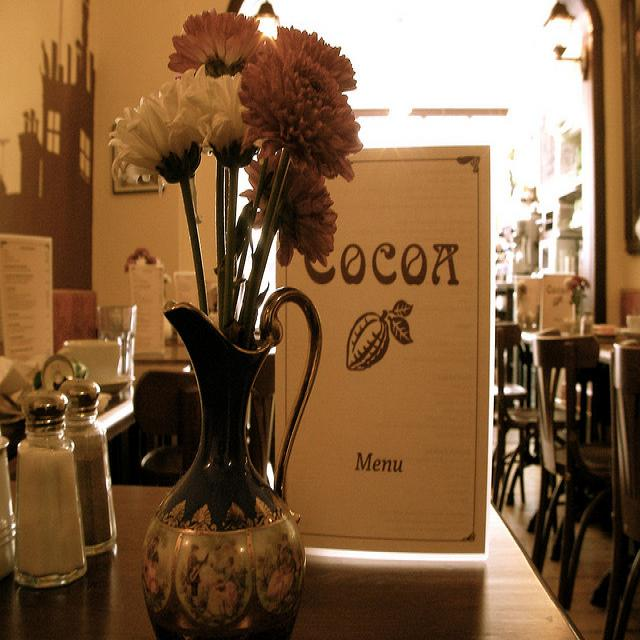chair: (531, 325, 613, 609), (599, 344, 640, 640), (134, 368, 200, 489), (492, 321, 534, 505)
dining table: (98, 360, 192, 440), (521, 325, 563, 342), (599, 343, 614, 365)
